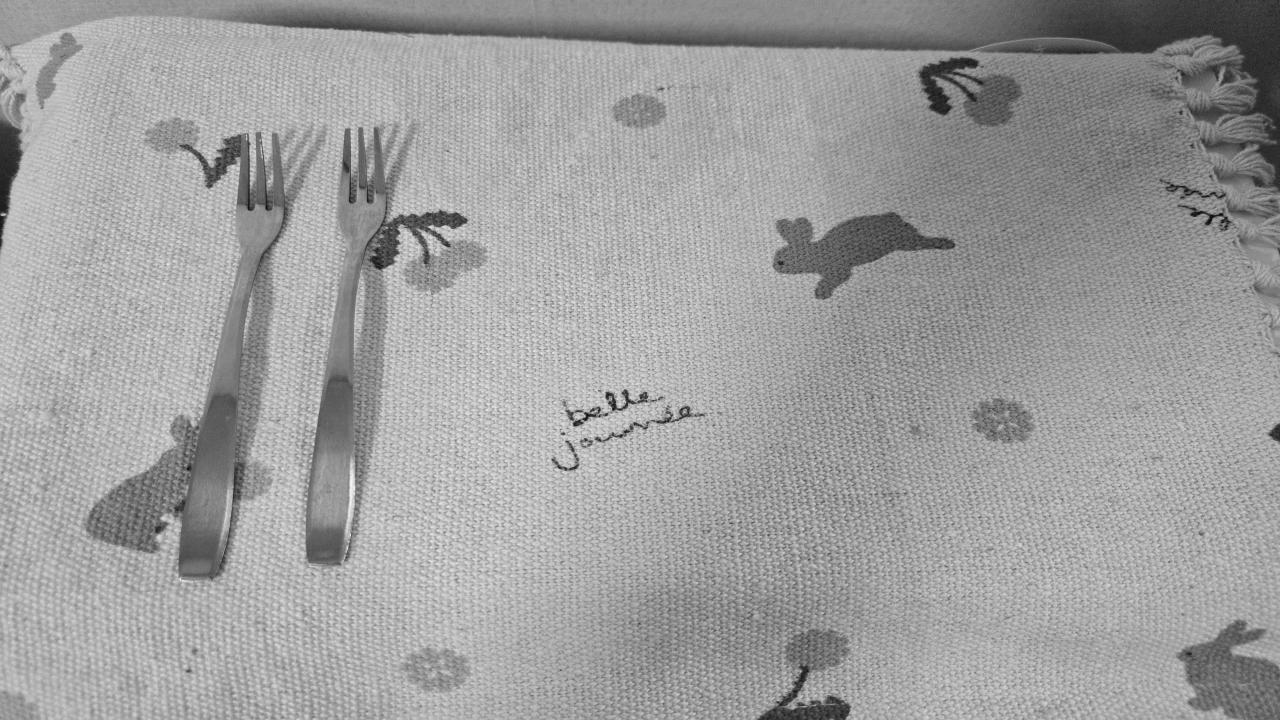fork: (169, 133, 298, 586), (303, 128, 399, 572)
